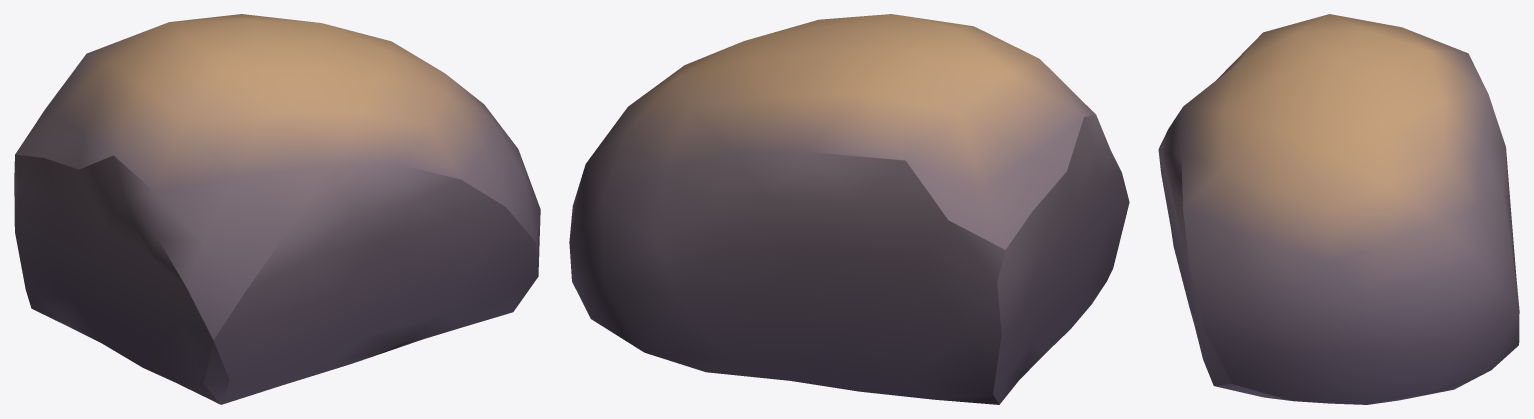
Rendered from Rock_Boulder.glb.
3 renders of one model, left to right at view 1: azimuth 30°, elevation 25°; view 2: azimuth 150°, elevation 25°; view 3: azimuth 270°, elevation 25°, orthographic. The views are drawn at different scales.
Visible parts, largest first — view 1: Rock_Boulder; view 2: Rock_Boulder; view 3: Rock_Boulder.
Part boxes in pixels (bbox=[...]): Rock_Boulder: bbox=[14, 14, 540, 404]; Rock_Boulder: bbox=[569, 14, 1129, 404]; Rock_Boulder: bbox=[1158, 14, 1519, 404].
Size of the model in its own units: 2.22 by 1.31 by 1.72.
